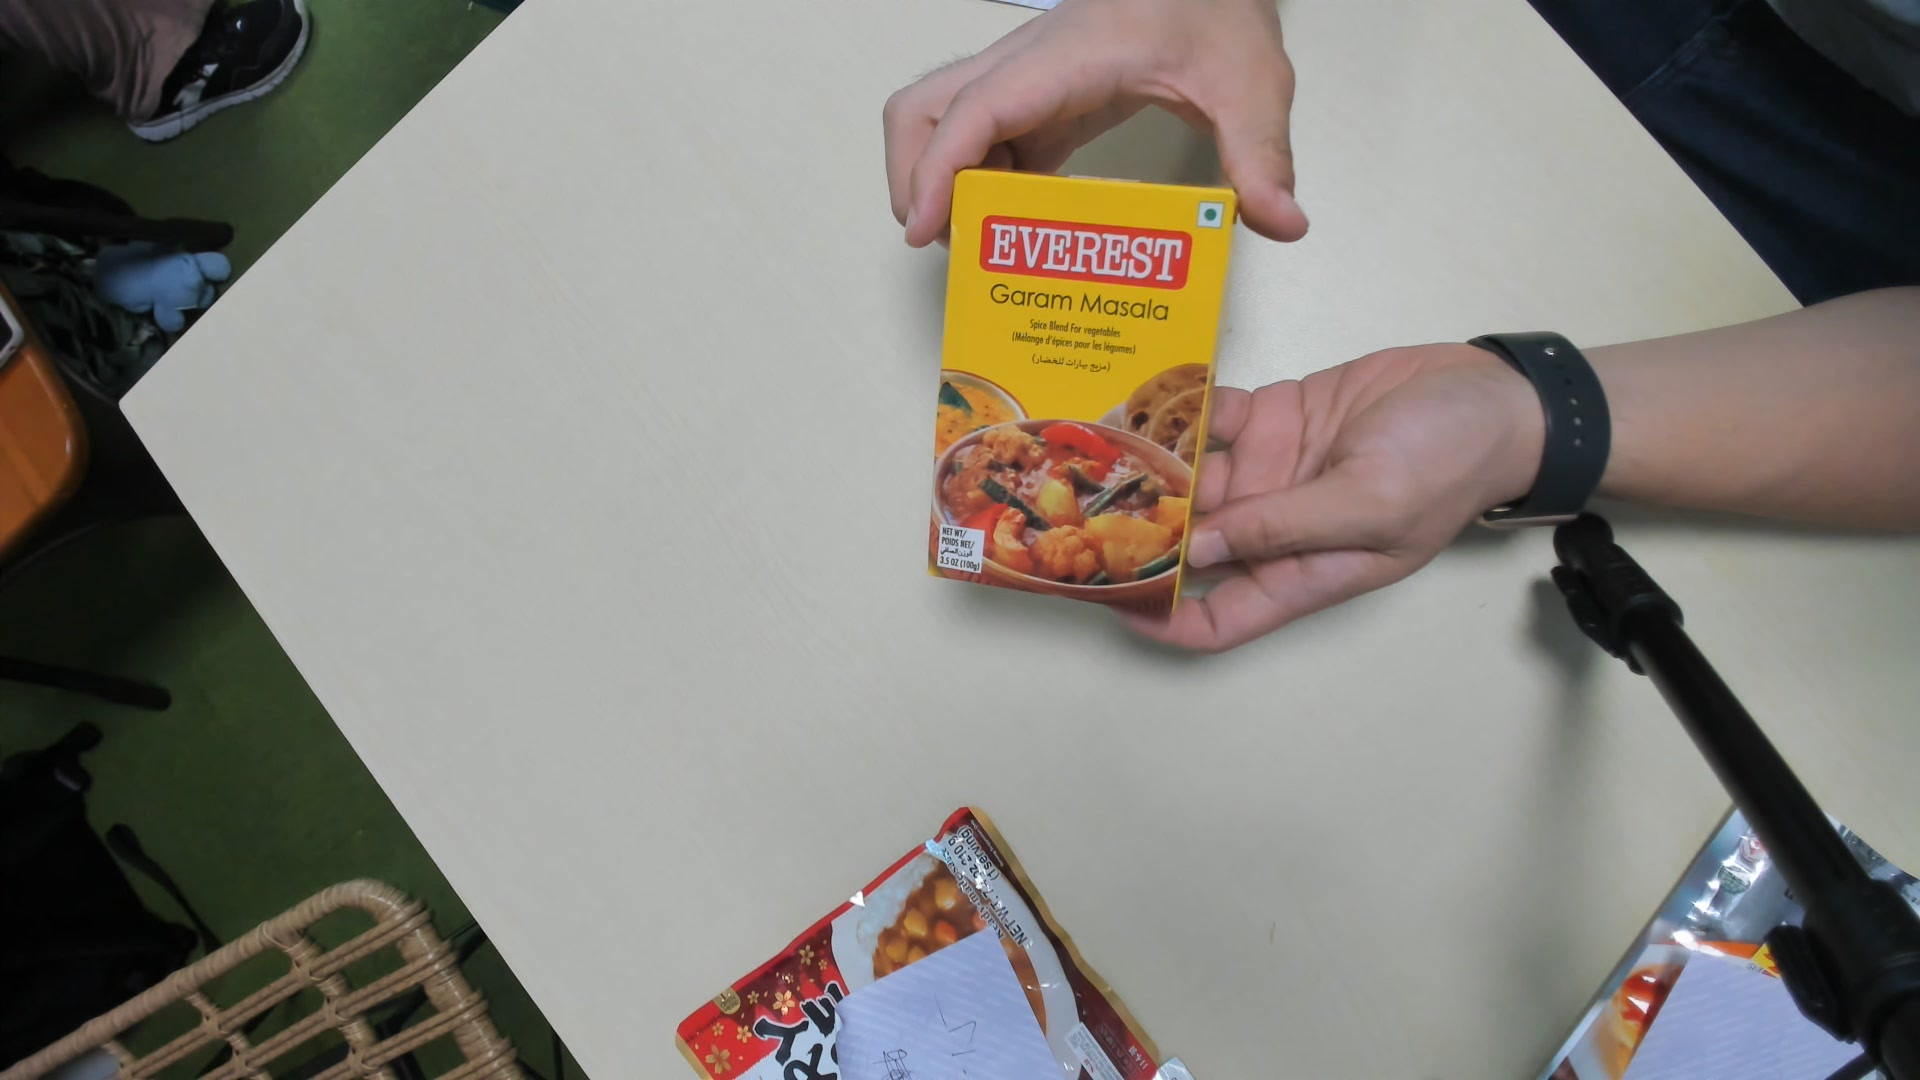CurryPastePowderSauce_100-199g_NonHalal_NonHealthy: (927, 167, 1225, 626)
